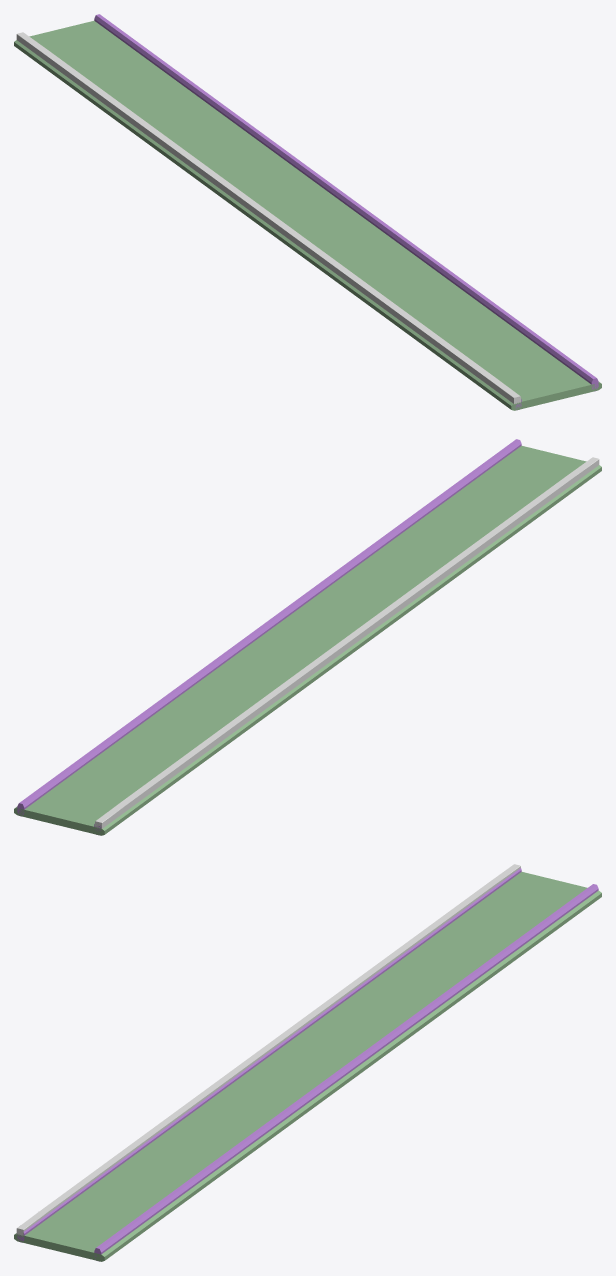
Rendered from Ground.fbx.
The picture shows the model from 3 angles, top to bottom: view 1: azimuth 30°, elevation 25°; view 2: azimuth 150°, elevation 25°; view 3: azimuth 330°, elevation 25°; orthographic projection.
Visible parts, largest first — view 1: Cube, Cube.001, Cube.003; view 2: Cube, Cube.001, Cube.003; view 3: Cube, Cube.003, Cube.001, Cube.002.
Part boxes in pixels (box(x1,y1,x2,y2)): Cube: box(14, 21, 601, 410); Cube.001: box(16, 32, 520, 404); Cube.003: box(94, 14, 598, 391); Cube: box(14, 446, 601, 835); Cube.001: box(95, 457, 599, 828); Cube.003: box(17, 439, 521, 816); Cube: box(14, 872, 601, 1261); Cube.003: box(94, 884, 598, 1261); Cube.001: box(16, 864, 520, 1236); Cube.002: box(17, 868, 521, 1242).
Bounding box in the file's own units: 200 × 28.02 × 1901.
